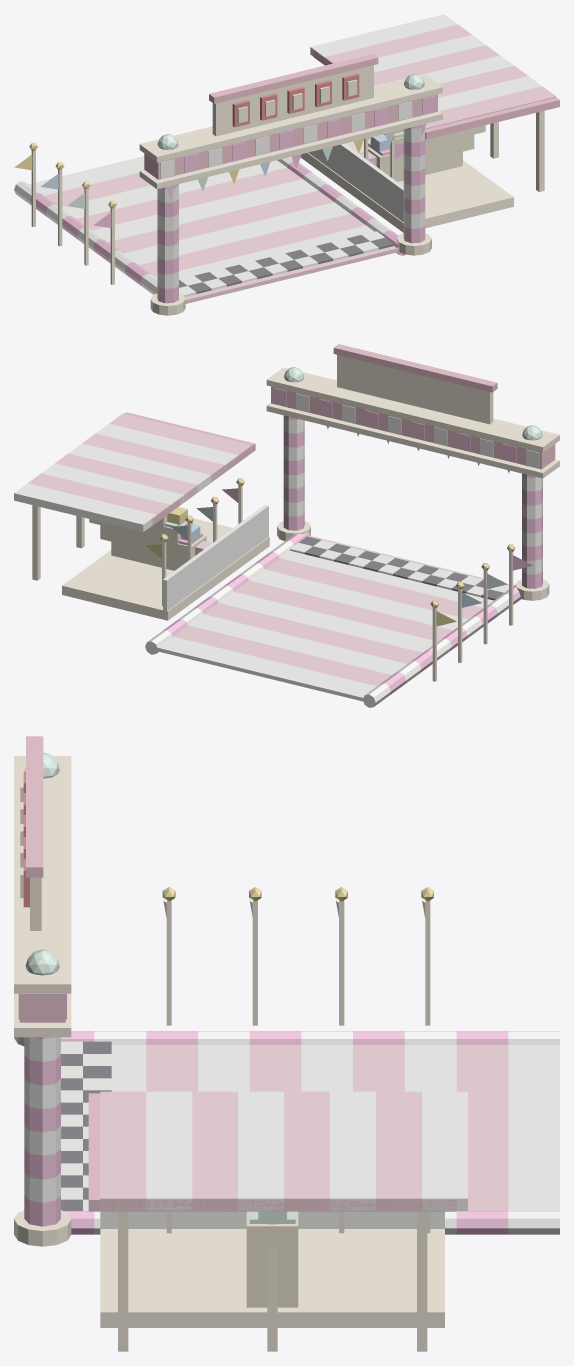
File: draha_start.glb
3 renders of one model, top to bottom at view 1: azimuth 30°, elevation 25°; view 2: azimuth 150°, elevation 25°; view 3: azimuth 270°, elevation 25°, orthographic. The views are drawn at different scales.
Parts seen in each view (by area): view 1: DrahaStart_white, DrahaStart_cream, DrahaStart_pink, DrahaStart_lol, DrahaStart_pink2, DrahaStart_sand, DrahaStart_dark, DrahaStart_red2, DrahaStart_mint, DrahaStart_blue; view 2: DrahaStart_white, DrahaStart_cream, DrahaStart_pink, DrahaStart_lol, DrahaStart_pink2, DrahaStart_sand, DrahaStart_dark, DrahaStart_mint, DrahaStart_yellow, DrahaStart_blue; view 3: DrahaStart_white, DrahaStart_cream, DrahaStart_pink, DrahaStart_pink2, DrahaStart_lol, DrahaStart_sand, DrahaStart_dark, DrahaStart_mint.
Part boxes in pixels (left/top/right/bottom): DrahaStart_white: left=14, top=14, right=541, bottom=296; DrahaStart_cream: left=31, top=65, right=544, bottom=315; DrahaStart_pink: left=45, top=24, right=556, bottom=303; DrahaStart_lol: left=30, top=95, right=436, bottom=303; DrahaStart_pink2: left=144, top=50, right=559, bottom=179; DrahaStart_sand: left=368, top=125, right=485, bottom=181; DrahaStart_dark: left=179, top=235, right=393, bottom=293; DrahaStart_red2: left=232, top=73, right=359, bottom=127; DrahaStart_mint: left=67, top=74, right=424, bottom=208; DrahaStart_blue: left=41, top=131, right=394, bottom=189; DrahaStart_white: left=14, top=393, right=542, bottom=707; DrahaStart_cream: left=32, top=354, right=559, bottom=681; DrahaStart_pink: left=28, top=413, right=513, bottom=686; DrahaStart_lol: left=163, top=388, right=542, bottom=695; DrahaStart_pink2: left=124, top=344, right=555, bottom=529; DrahaStart_sand: left=89, top=506, right=206, bottom=570; DrahaStart_dark: left=299, top=536, right=503, bottom=600; DrahaStart_mint: left=164, top=367, right=542, bottom=589; DrahaStart_yellow: left=145, top=433, right=479, bottom=626; DrahaStart_blue: left=171, top=426, right=481, bottom=607; DrahaStart_white: left=24, top=1031, right=559, bottom=1234; DrahaStart_cream: left=14, top=756, right=444, bottom=1351; DrahaStart_pink: left=100, top=1045, right=508, bottom=1210; DrahaStart_pink2: left=19, top=736, right=456, bottom=1211; DrahaStart_lol: left=18, top=901, right=508, bottom=1234; DrahaStart_sand: left=246, top=1211, right=298, bottom=1307; DrahaStart_dark: left=61, top=1041, right=111, bottom=1210; DrahaStart_mint: left=25, top=752, right=295, bottom=1223.
Size of the model in its own units: 14.6 by 6.58 by 9.5.
